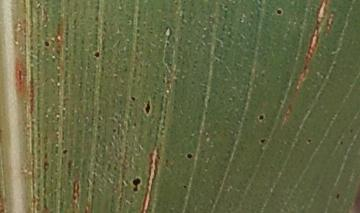tarspot: (131, 176, 142, 193), (144, 98, 152, 114), (185, 152, 194, 161), (92, 50, 101, 59), (61, 148, 70, 156), (275, 7, 282, 16), (43, 40, 50, 48), (257, 114, 264, 121), (334, 192, 341, 199), (259, 137, 266, 144), (129, 95, 137, 101), (132, 121, 138, 128), (111, 127, 117, 134), (306, 138, 312, 144), (182, 184, 188, 190), (338, 140, 345, 145), (349, 127, 353, 134)
